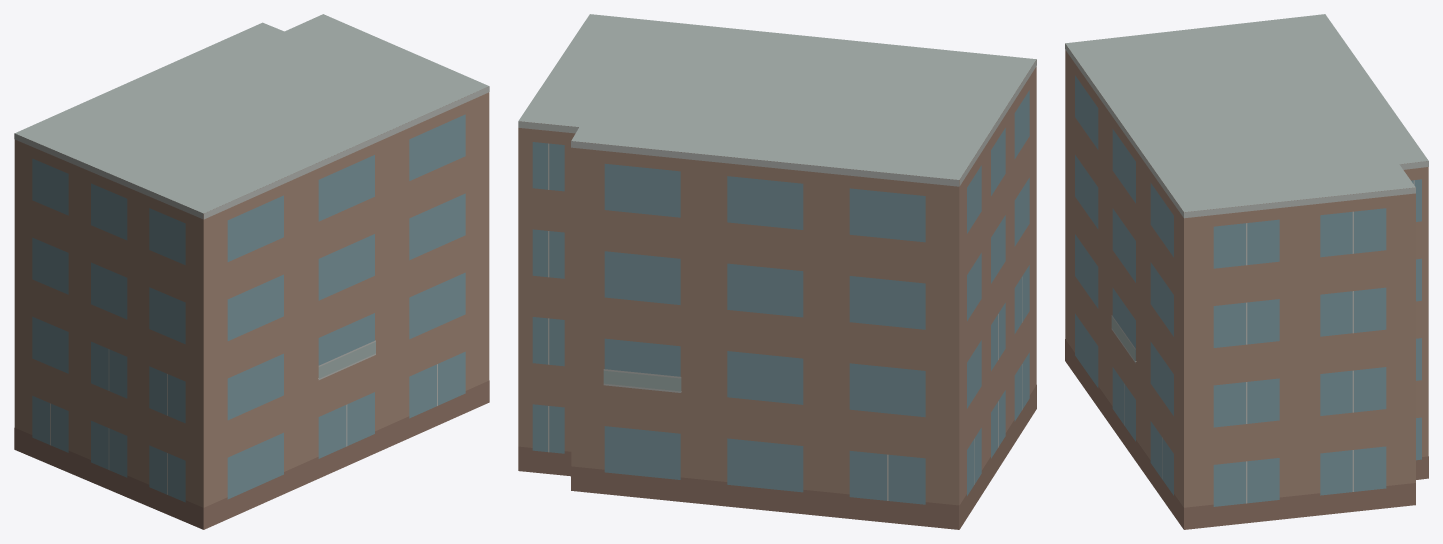
Rendered from survey-upis-32626161.glb.
The picture shows the model from 3 angles, left to right: view 1: azimuth 30°, elevation 25°; view 2: azimuth 150°, elevation 25°; view 3: azimuth 270°, elevation 25°; orthographic projection. The views are drawn at different scales.
Parts seen in each view (by area): view 1: survey-upis-32626161.tmp; view 2: survey-upis-32626161.tmp; view 3: survey-upis-32626161.tmp.
Boxes of the visible parts, x1,y1,x2,y2 form: survey-upis-32626161.tmp: [14, 14, 489, 529]; survey-upis-32626161.tmp: [518, 14, 1036, 529]; survey-upis-32626161.tmp: [1065, 14, 1428, 529].
Bounding box in the file's own units: 17.14 × 12.8 × 13.29.
